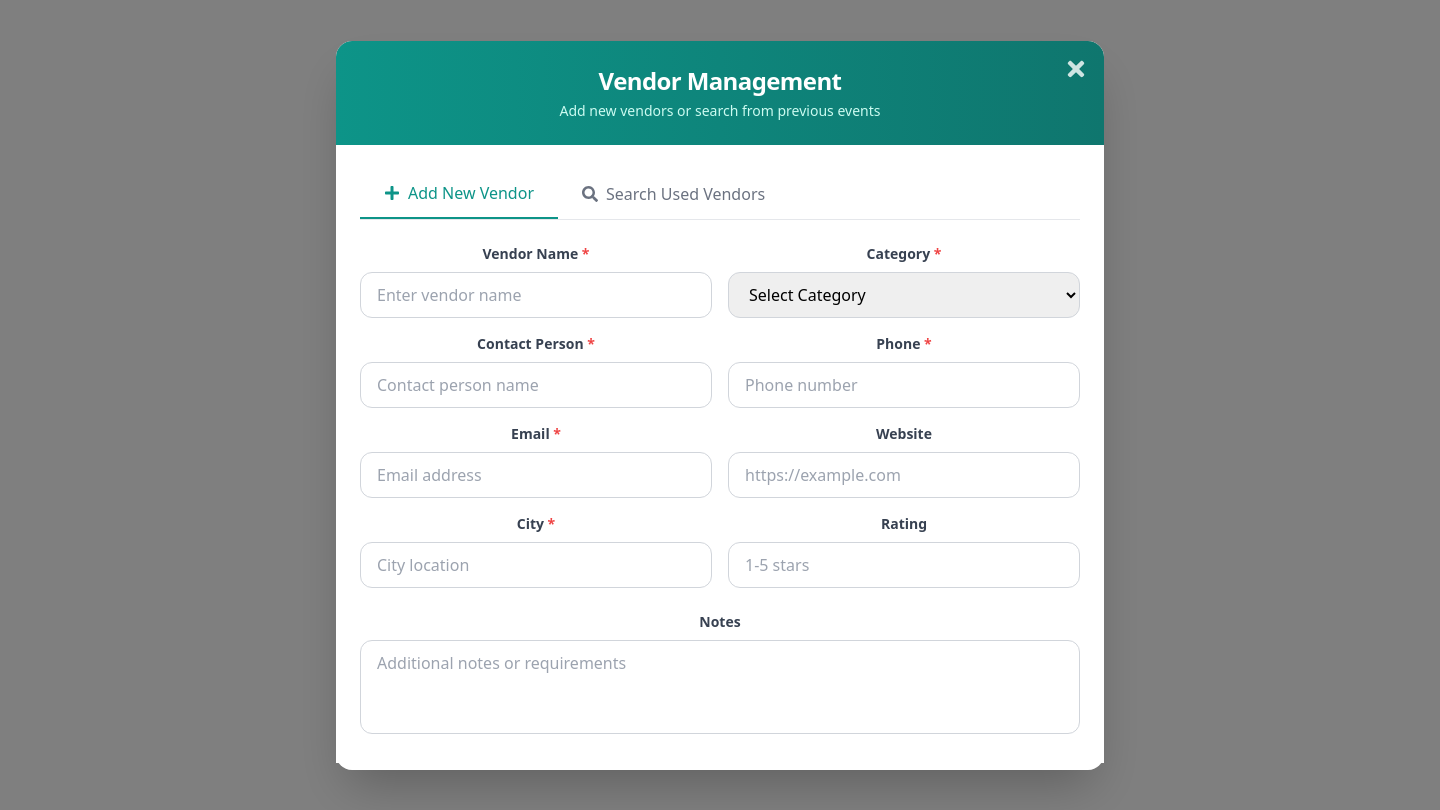
Test: NewVendorModal › performs vendor search and displays results
Click the button "Search Used Vendors" at (674, 194), box [558,168,789,218]
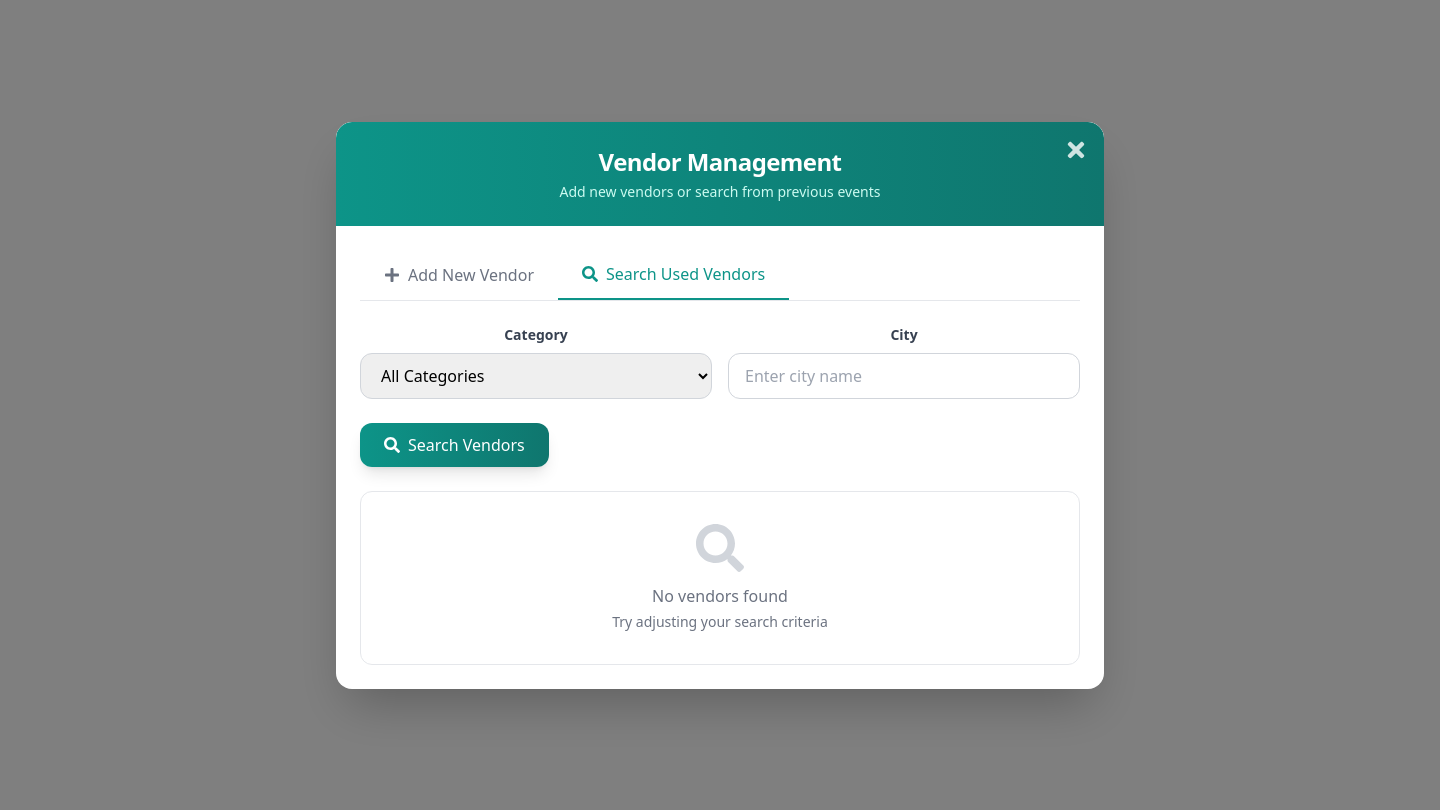
Type "Cape Town" into the field with placeholder "Enter city name" at (904, 376), box [728,352,1080,398]
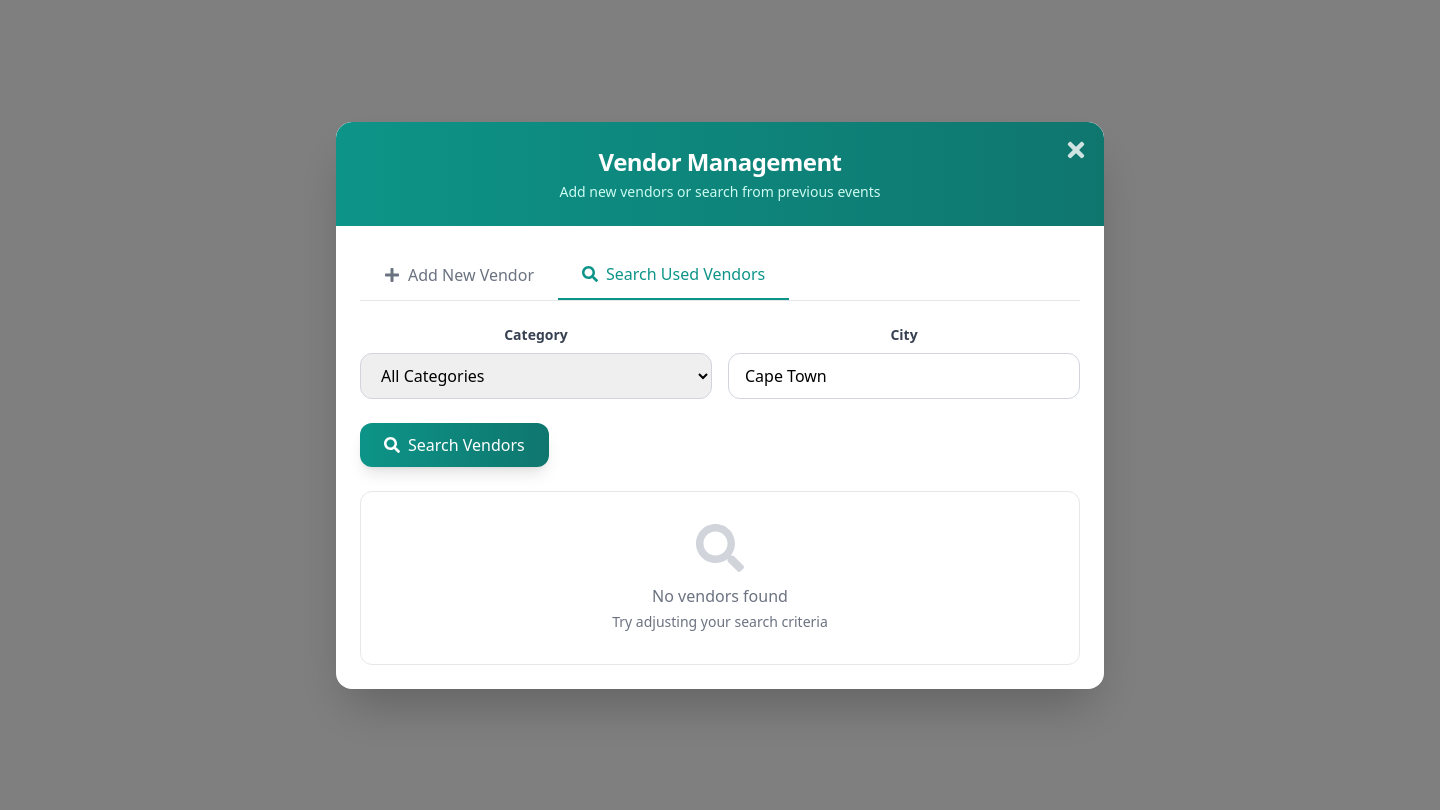
Click the button "Search Vendors" at (454, 444), box [360,422,549,466]
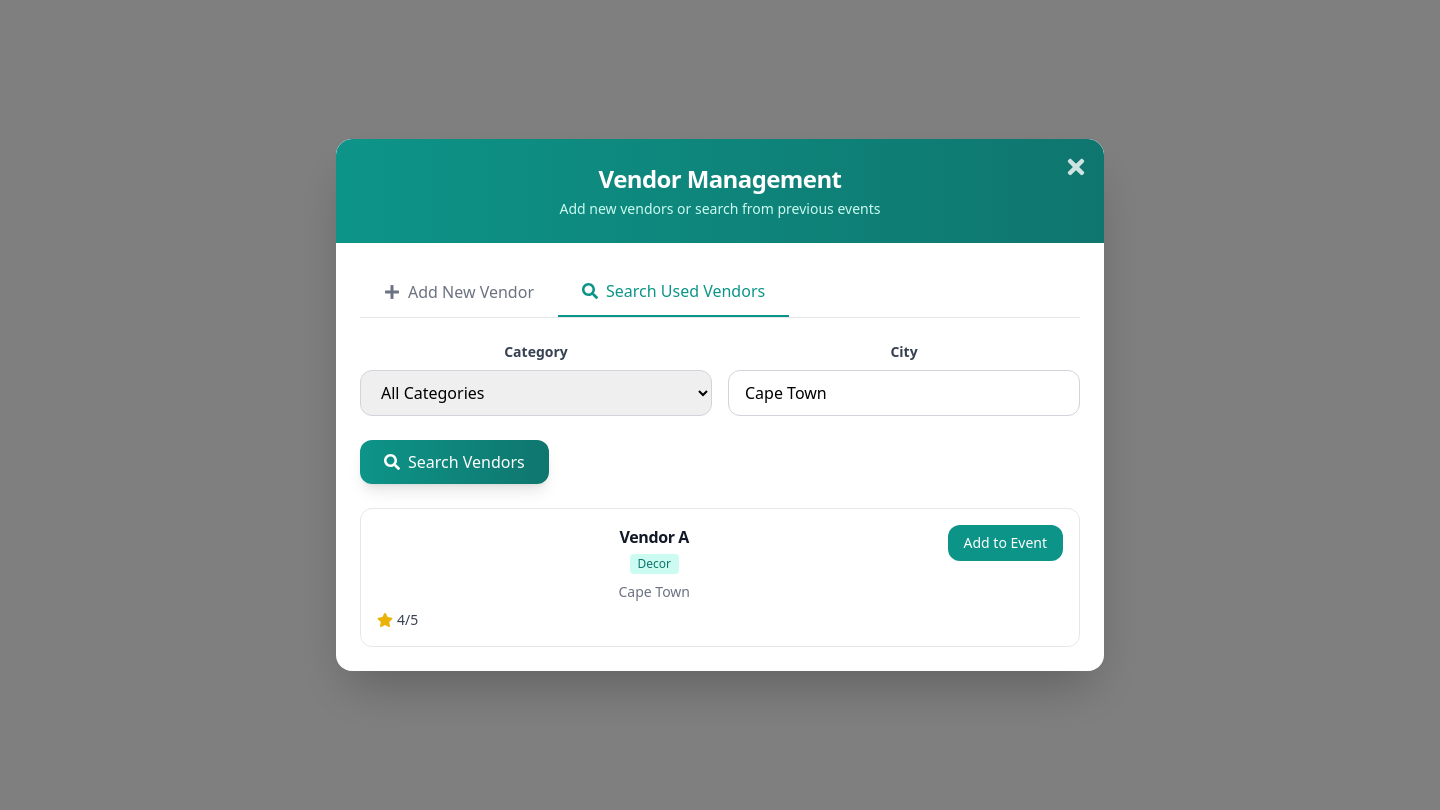
Check: the heading "Vendor A" is shown, box [620,526,689,548]
